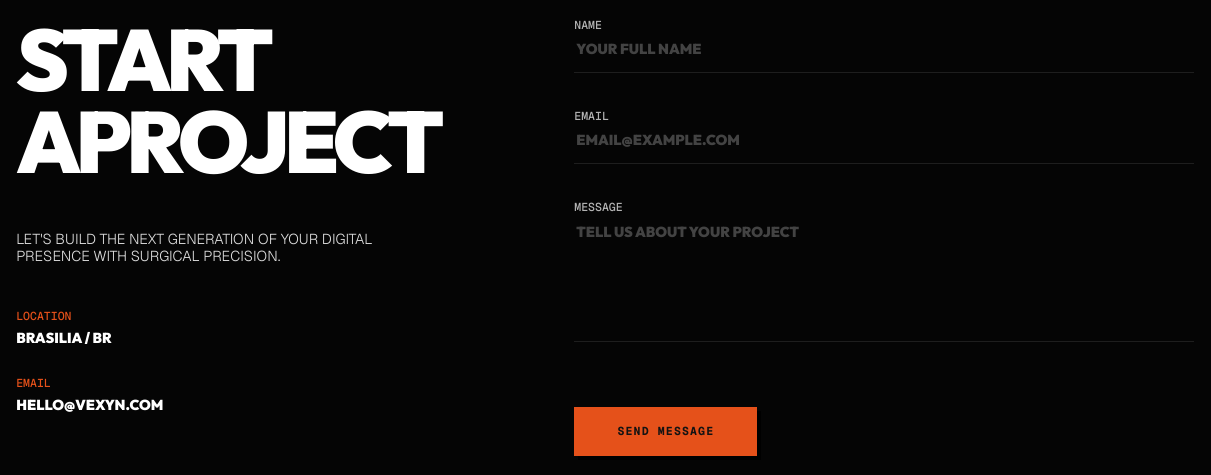
Test: Contact Component › should show technical error labels [REQUIRED] when submitting empty fields
Click the button "SEND MESSAGE".
click(666, 432)  # box [574, 407, 757, 456]
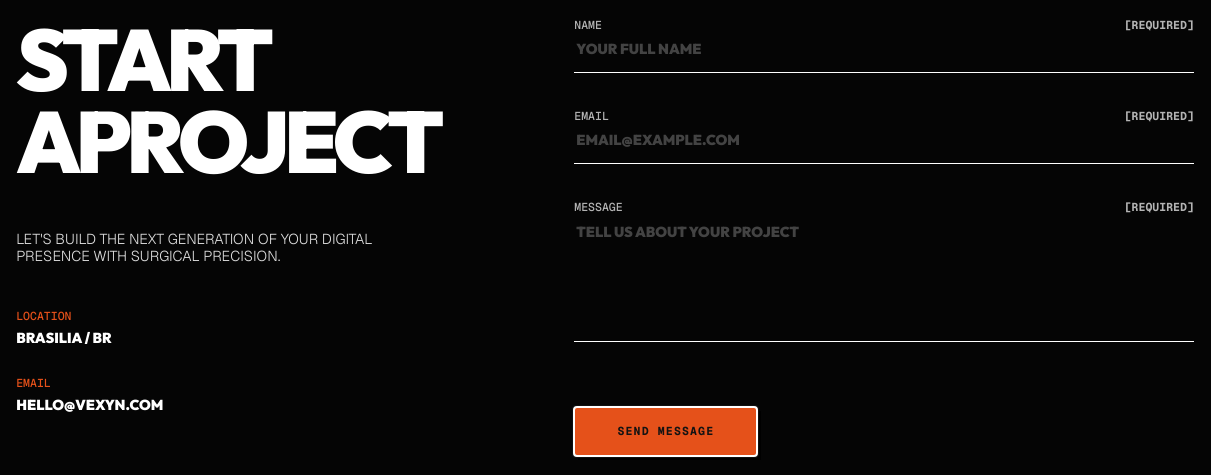
expect the text "[REQUIRED]" in the row of "NAME" is shown: met, box [1125, 17, 1194, 32]
